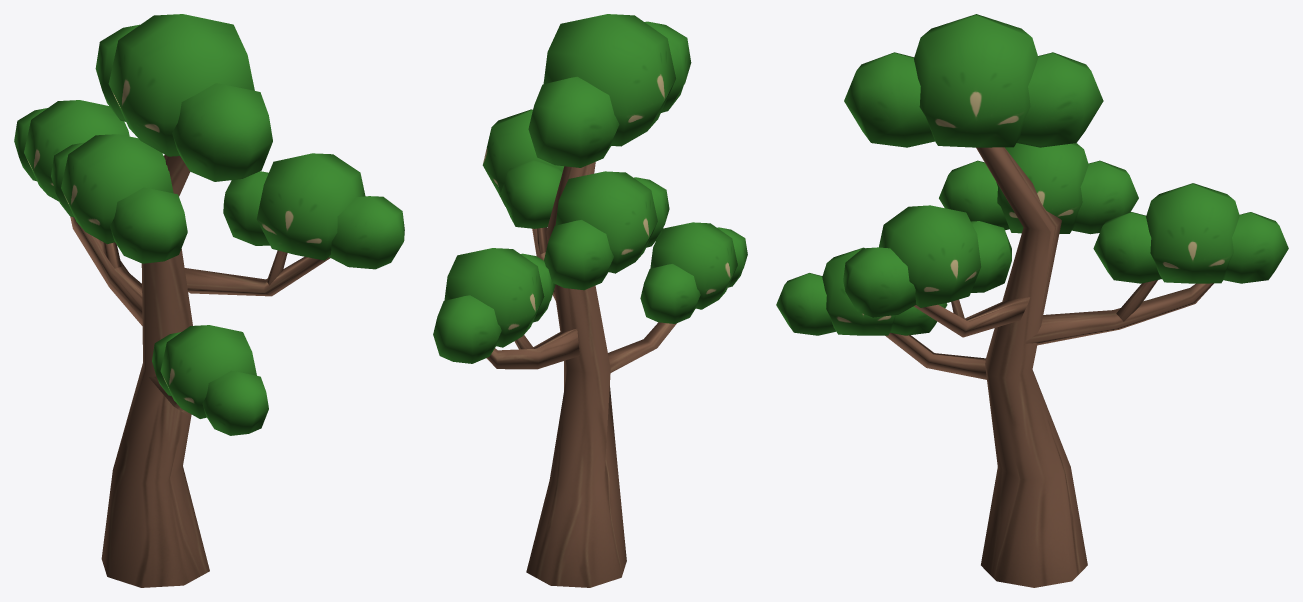
Rendered from tree.fbx.
3 renders of one model, left to right at view 1: azimuth 30°, elevation 25°; view 2: azimuth 150°, elevation 25°; view 3: azimuth 270°, elevation 25°, orthographic. The views are drawn at different scales.
Parts seen in each view (by area): view 1: tree; view 2: tree; view 3: tree.
Part boxes in pixels (x1,y1,x2,y2): tree: (14,14,404,587); tree: (433,14,747,587); tree: (776,14,1288,587).
Size of the model in its own units: 9.45 by 21.25 by 18.01.
1 material, 1 textured.
